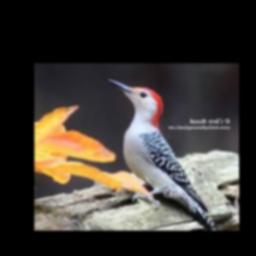Woodpecker: (108, 78, 221, 231)
